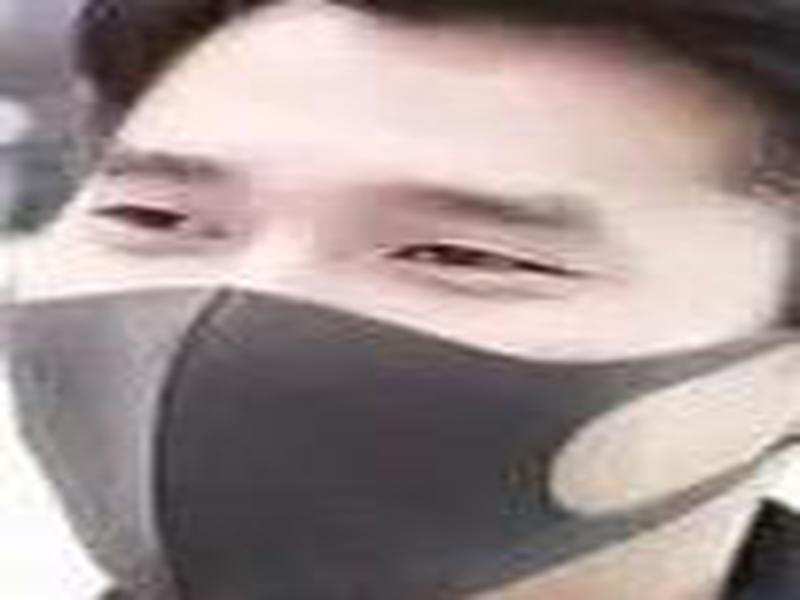with_mask: (1, 1, 793, 598)
